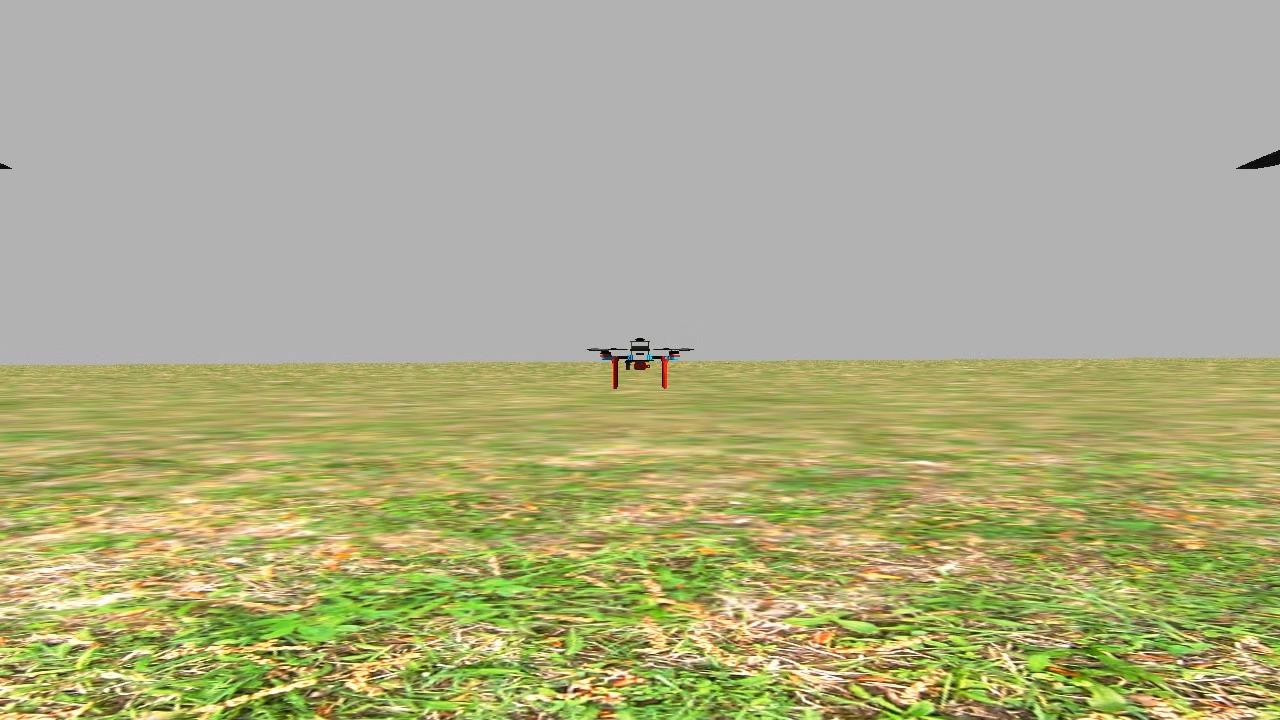UAV: (590, 332, 691, 400)
